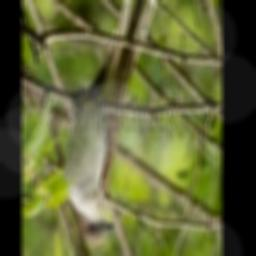Cuckoo: (65, 0, 157, 245)
